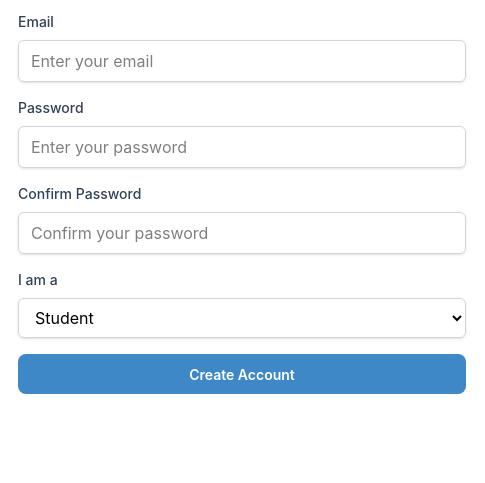
Test: RegisterForm › shows validation errors for empty fields
The image size is (485, 483).
Click the button "Create Account" at (242, 374), box [18,354,466,394]
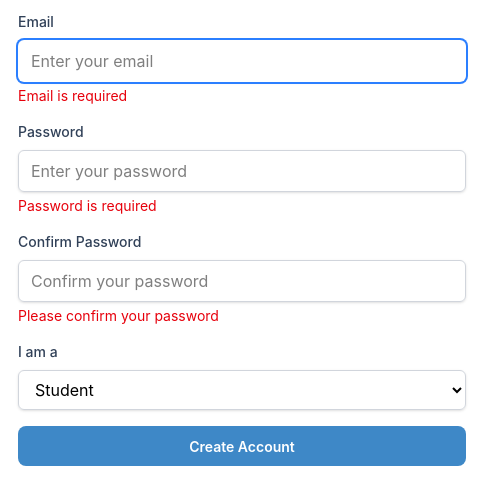
Expected: the text "Email is required" is shown, [18,87,127,104]
Expected: the text "Password is required" is shown, [18,197,157,214]
